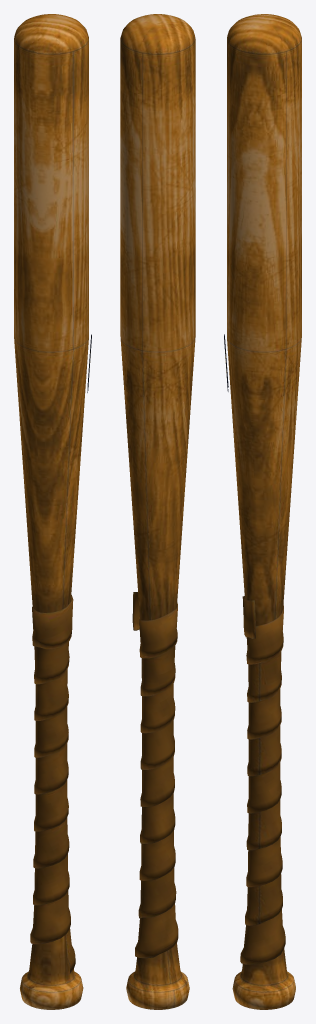
File: nyb_coney_bat.glb
3 renders of one model, left to right at view 1: azimuth 90°, elevation 25°; view 2: azimuth 210°, elevation 25°; view 3: azimuth 270°, elevation 25°, orthographic.
Parts seen in each view (by area): view 1: baseball_bat; view 2: baseball_bat; view 3: baseball_bat.
Boxes of the visible parts, x1,y1,x2,y2 form: baseball_bat: (14,14,88,1009); baseball_bat: (120,14,195,1009); baseball_bat: (227,14,301,1009).
Size of the model in its own units: 0.0635 by 0.9132 by 0.0659.
2 materials, 2 textured.
